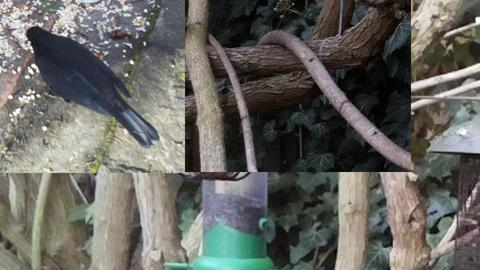blackbird: (25, 25, 160, 148)
